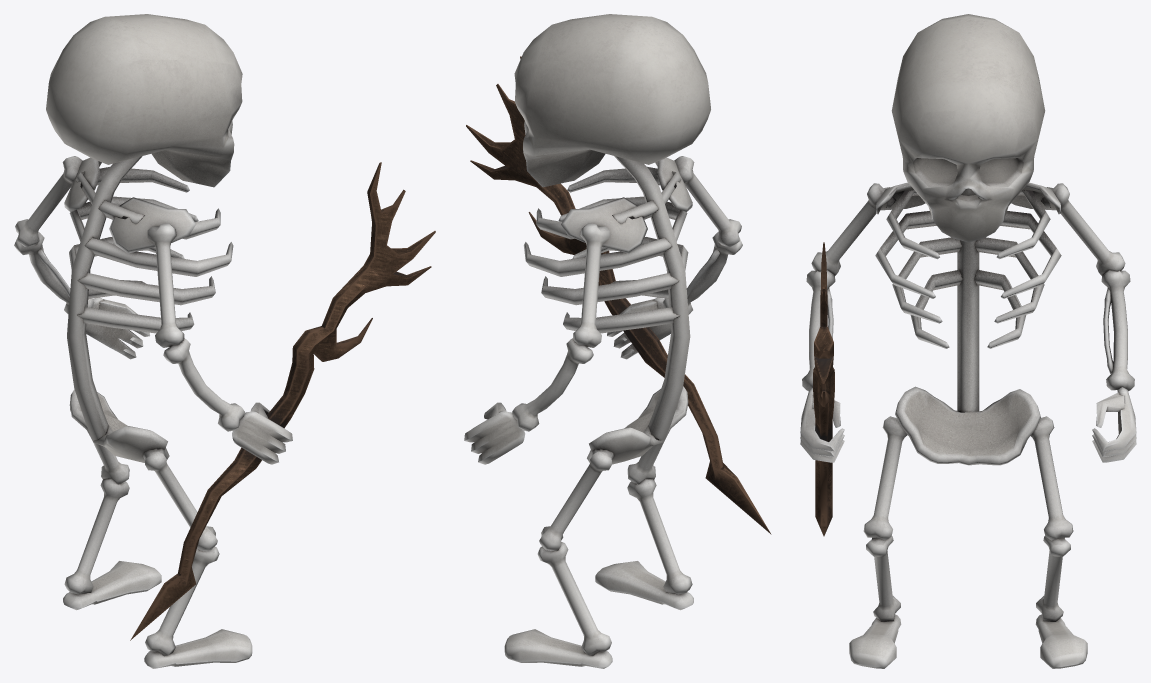
The model's file is WizardSkeleton.glb.
The picture shows the model from 3 angles, left to right: view 1: azimuth 30°, elevation 25°; view 2: azimuth 150°, elevation 25°; view 3: azimuth 270°, elevation 25°; orthographic projection.
Visible parts, largest first — view 1: Cube.006, StaffSkel; view 2: Cube.006, StaffSkel; view 3: Cube.006, StaffSkel.
Part boxes in pixels (bbox=[...]): Cube.006: bbox=[14, 14, 292, 668]; StaffSkel: bbox=[130, 162, 435, 640]; Cube.006: bbox=[464, 14, 742, 668]; StaffSkel: bbox=[466, 56, 771, 534]; Cube.006: bbox=[800, 14, 1136, 668]; StaffSkel: bbox=[813, 242, 834, 536].
Bounding box in the file's own units: 0.4863 × 0.9238 × 0.4603.
Materials: 1 (1 with a texture image).
